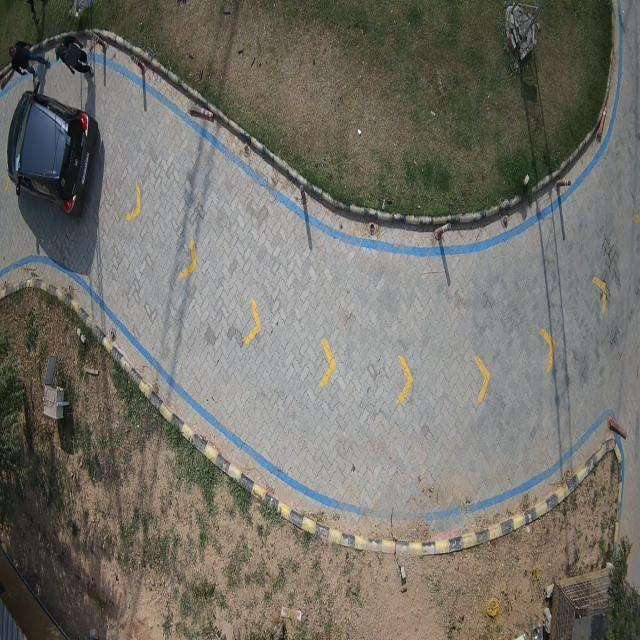car: (8, 91, 99, 217)
